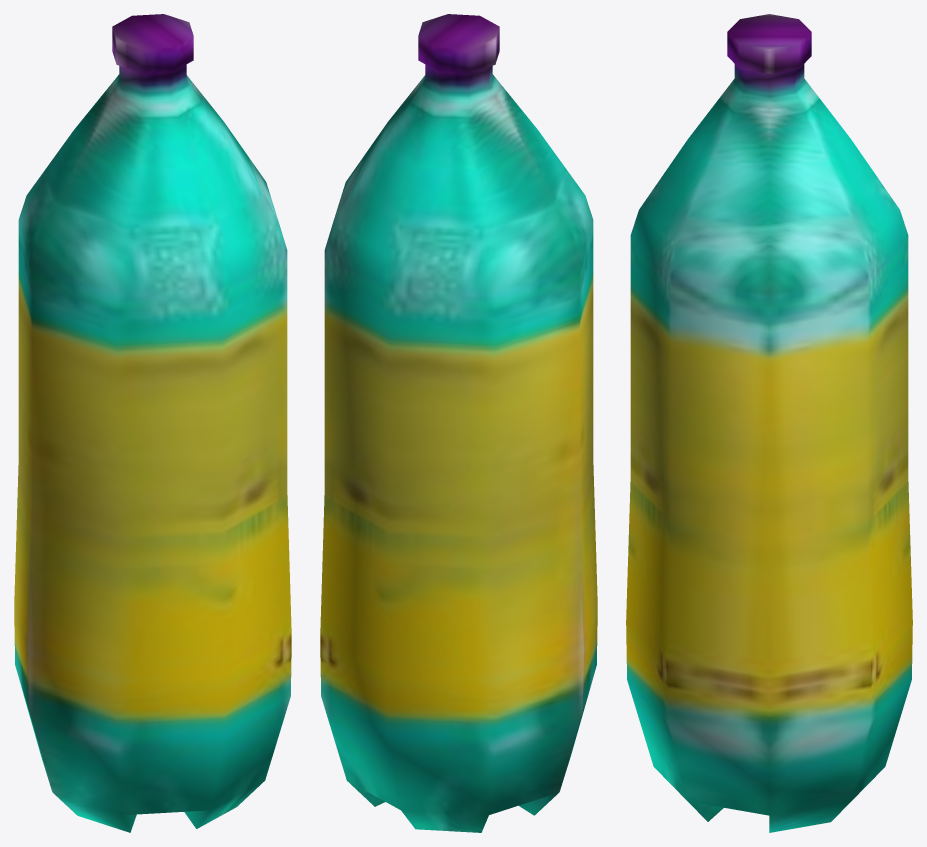
The model's file is Soda_11.glb.
3 views of the same model, side by side, from view 1: azimuth 30°, elevation 25°; view 2: azimuth 150°, elevation 25°; view 3: azimuth 270°, elevation 25° (orthographic).
Parts seen in each view (by area): view 1: Soda_11; view 2: Soda_11; view 3: Soda_11.
Part boxes in pixels (x1,y1,x2,y2): Soda_11: (14,14,291,832); Soda_11: (320,14,597,832); Soda_11: (626,14,912,832).
Bounding box in the file's own units: 0.2005 × 0.5896 × 0.2005.
Materials: 1 (1 with a texture image).
